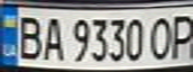0: (124, 15, 148, 62)
3: (87, 16, 109, 63), (106, 16, 127, 63)
9: (66, 15, 90, 63)
A: (39, 14, 66, 62)
B: (12, 12, 45, 61)
O: (148, 12, 175, 61)
P: (169, 11, 193, 60)
